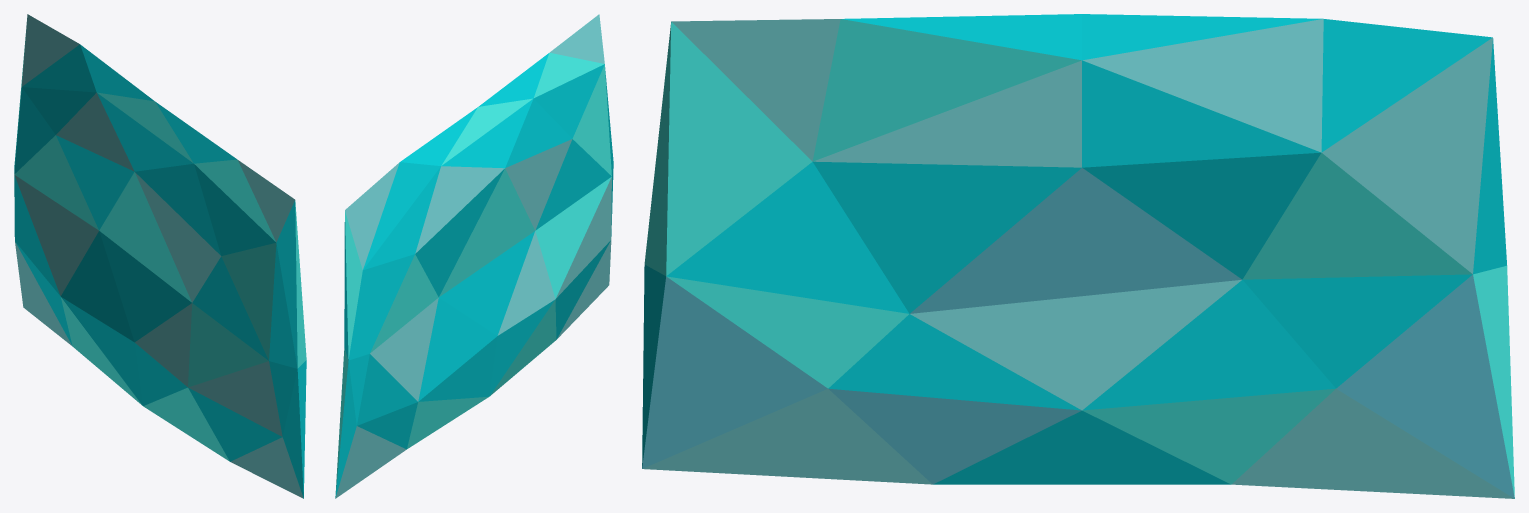
The model's file is iceWall.fbx.
The picture shows the model from 3 angles, left to right: view 1: azimuth 30°, elevation 25°; view 2: azimuth 150°, elevation 25°; view 3: azimuth 270°, elevation 25°; orthographic projection. The views are drawn at different scales.
Parts seen in each view (by area): view 1: Icosphere; view 2: Icosphere; view 3: Icosphere.
Part boxes in pixels (x1,y1,x2,y2): Icosphere: (14,14,306,498); Icosphere: (335,14,613,498); Icosphere: (642,14,1514,498).
Size of the model in its own units: 102 by 617 by 1020.
